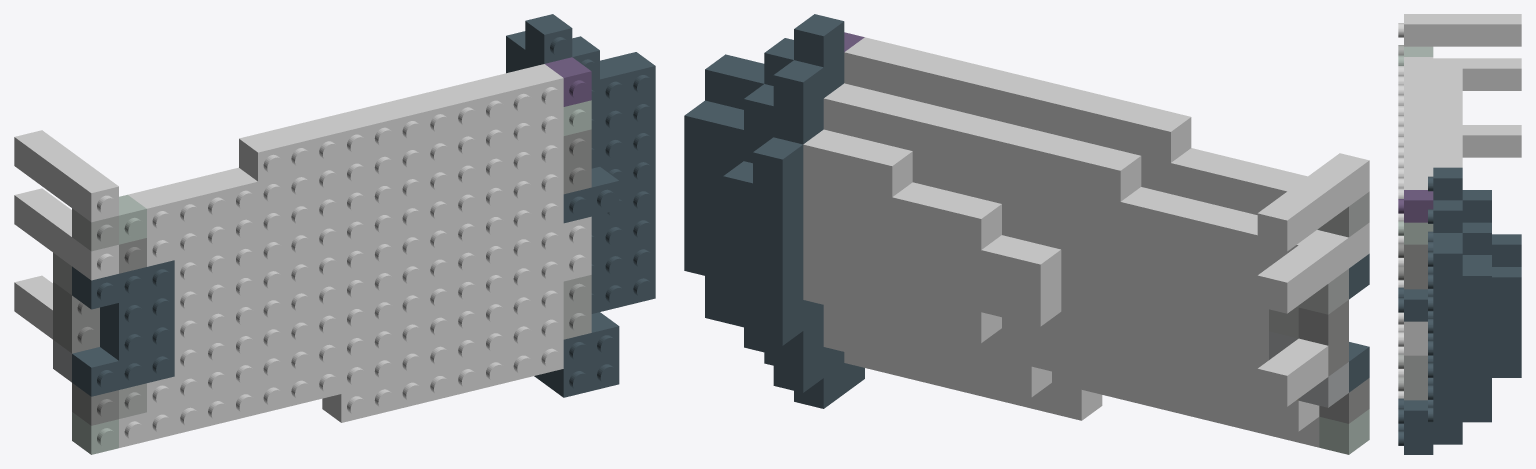
The model's file is full.glb.
The picture shows the model from 3 angles, left to right: view 1: azimuth 30°, elevation 25°; view 2: azimuth 150°, elevation 25°; view 3: azimuth 270°, elevation 25°; orthographic projection. The views are drawn at different scales.
Parts seen in each view (by area): view 1: world; view 2: world; view 3: world.
Boxes of the visible parts, box(x1,y1,x2,y2) form: world: box(14, 14, 655, 454); world: box(684, 14, 1369, 454); world: box(1398, 14, 1521, 454).
Size of the model in its own units: 168 by 96 by 40.2.
